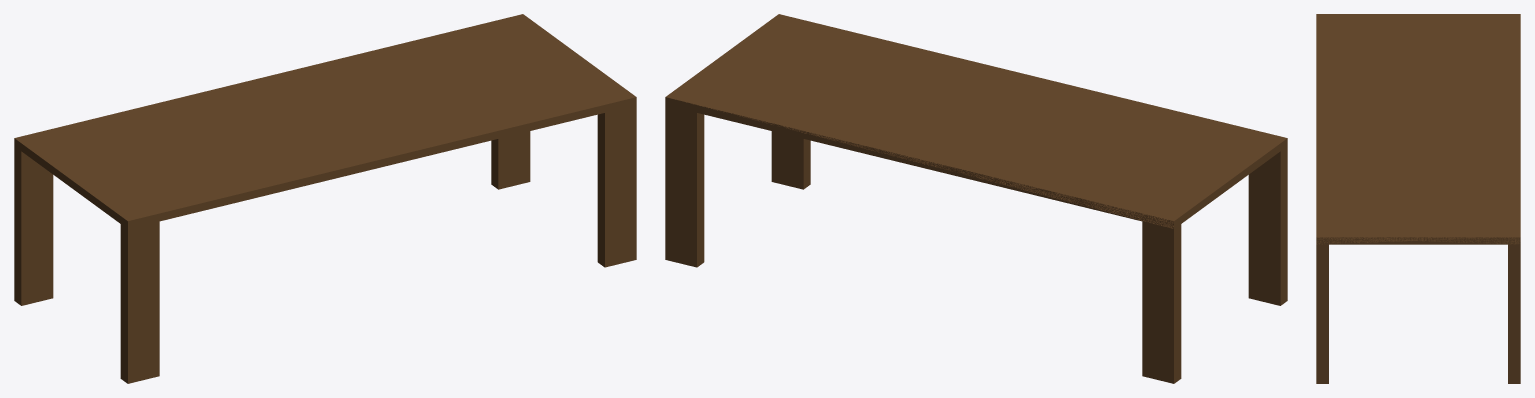
The model's file is Table.fbx.
The picture shows the model from 3 angles, left to right: view 1: azimuth 30°, elevation 25°; view 2: azimuth 150°, elevation 25°; view 3: azimuth 270°, elevation 25°; orthographic projection. The views are drawn at different scales.
Visible parts, largest first — view 1: Cube; view 2: Cube; view 3: Cube.
Part boxes in pixels (bbox=[...]): Cube: bbox=[14, 14, 636, 383]; Cube: bbox=[665, 14, 1287, 383]; Cube: bbox=[1316, 14, 1520, 383].
Size of the model in its own units: 970 by 296 by 375.
